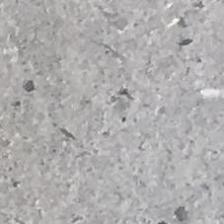Non_Crack: (8, 31, 224, 215)
